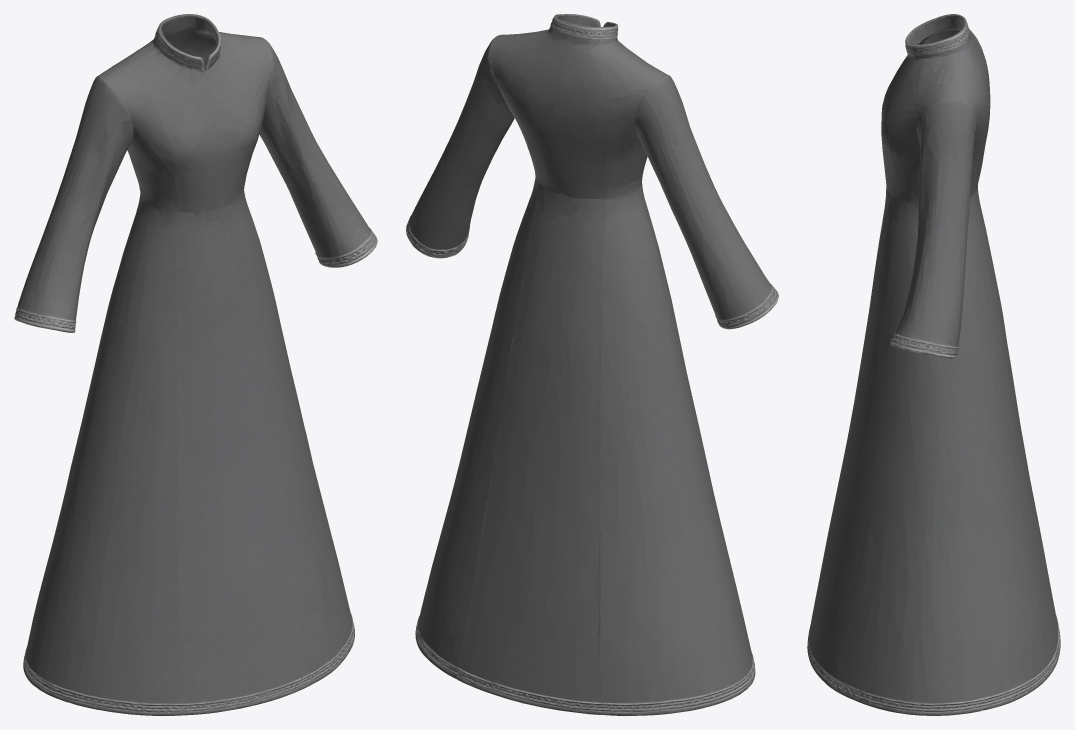
Rendered from fantasy_robe.glb.
The picture shows the model from 3 angles, left to right: view 1: azimuth 30°, elevation 25°; view 2: azimuth 150°, elevation 25°; view 3: azimuth 270°, elevation 25°; orthographic projection. The views are drawn at different scales.
Visible parts, largest first — view 1: output_unwrapped; view 2: output_unwrapped; view 3: output_unwrapped.
Boxes of the visible parts, x1,y1,x2,y2 form: output_unwrapped: [14, 14, 377, 715]; output_unwrapped: [406, 14, 778, 715]; output_unwrapped: [807, 14, 1060, 715].
Size of the model in its own units: 1.11 by 1.9 by 0.6975.
1 material, 1 textured.
